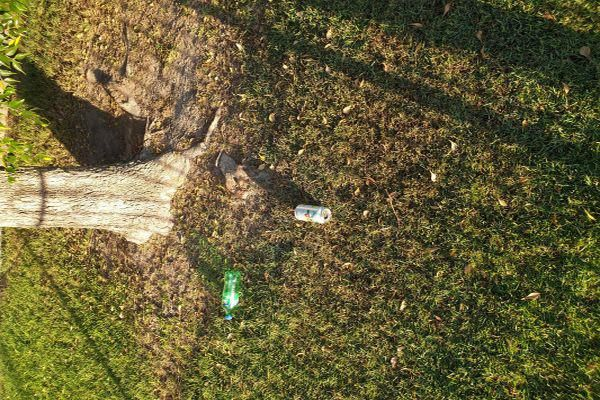Plastic Bottle: (220, 269, 242, 320), (294, 204, 332, 225)
